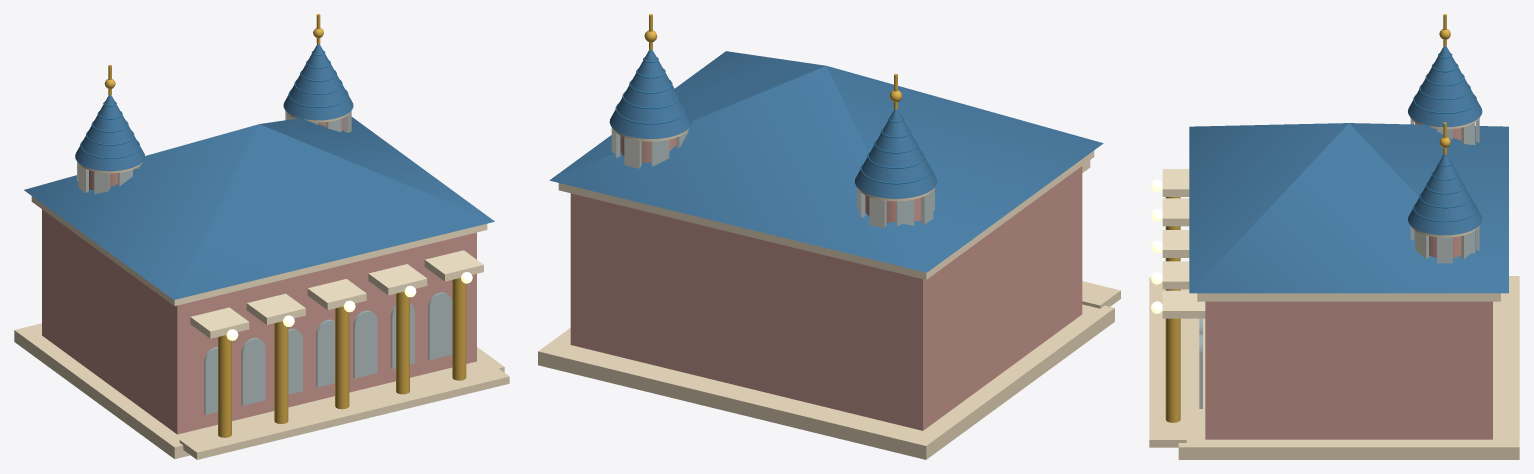
The model's file is theater.glb.
3 renders of one model, left to right at view 1: azimuth 30°, elevation 25°; view 2: azimuth 150°, elevation 25°; view 3: azimuth 270°, elevation 25°, orthographic. The views are drawn at different scales.
Bounding box in the file's own units: 3.8 × 3.16 × 3.48.
